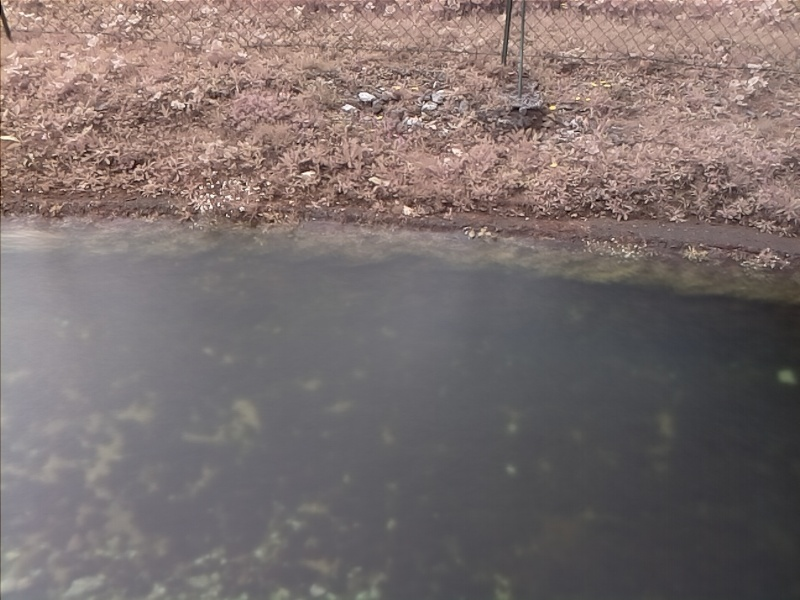Water: (1, 212, 798, 600)
